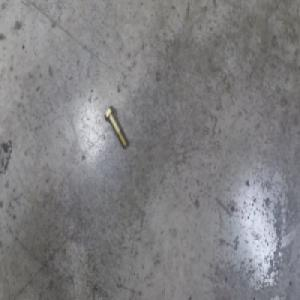Bolt: (104, 105, 128, 150)
